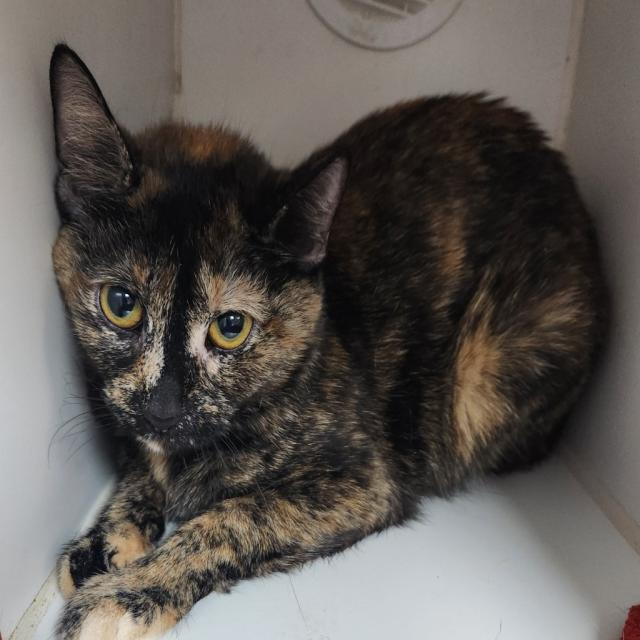manx_cat: (39, 36, 363, 476)
